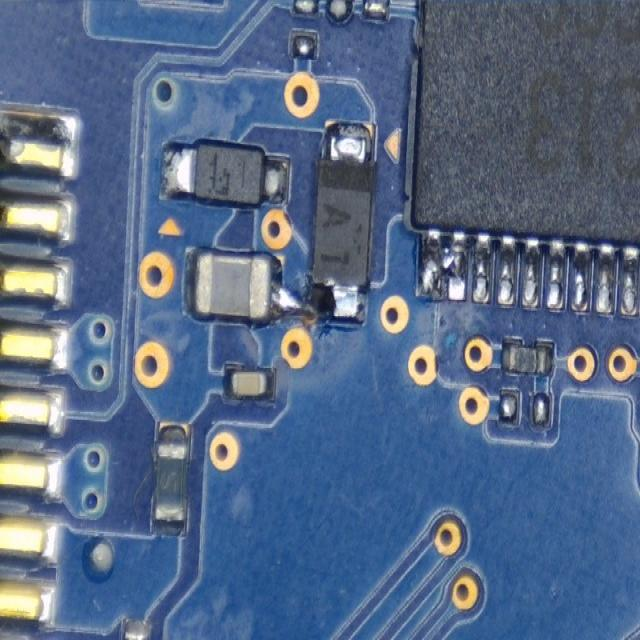Short_circuit: (249, 255, 359, 322), (419, 229, 467, 299)
